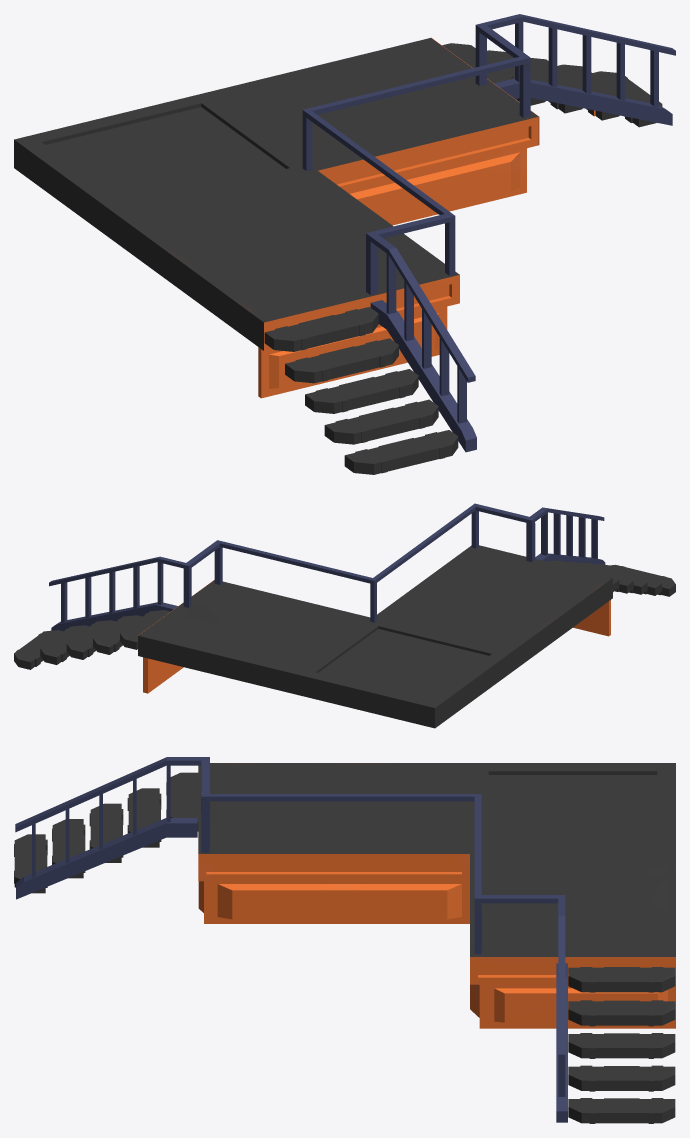
Rendered from PlatformFinal.fbx.
3 renders of one model, top to bottom at view 1: azimuth 30°, elevation 25°; view 2: azimuth 150°, elevation 25°; view 3: azimuth 270°, elevation 25°, orthographic. The views are drawn at different scales.
Parts seen in each view (by area): view 1: Platform; view 2: Platform; view 3: Platform.
Boxes of the visible parts, x1,y1,x2,y2 form: Platform: [14, 14, 675, 474]; Platform: [14, 503, 675, 728]; Platform: [14, 757, 675, 1123].
Size of the model in its own units: 1000 by 230 by 1000.
